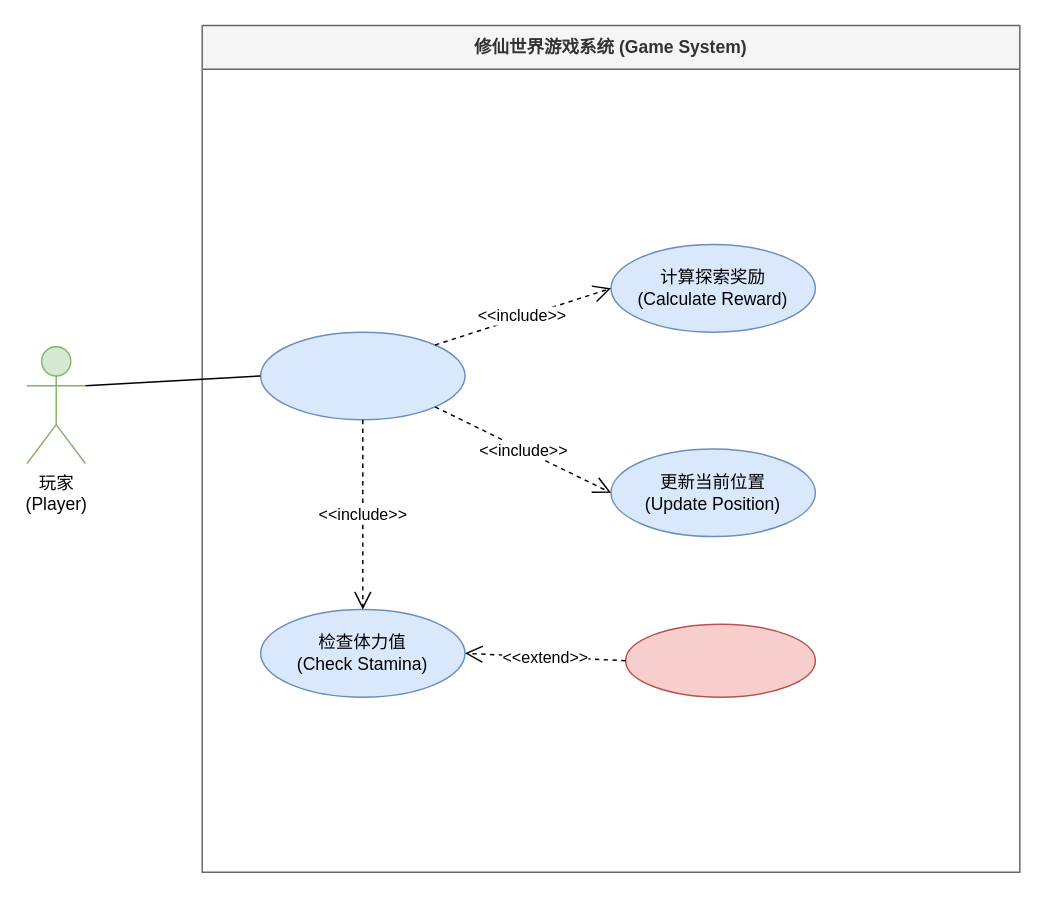
Image size: 1045x898. Some labels were removed from this diagram. Here are the shapes that lost their labels. From the top down, the box of each, then its label:
(259, 331, 465, 420): 地图探索 (Explore Map)
(624, 623, 815, 697): 提示体力不足 (Prompt No Stamina)
